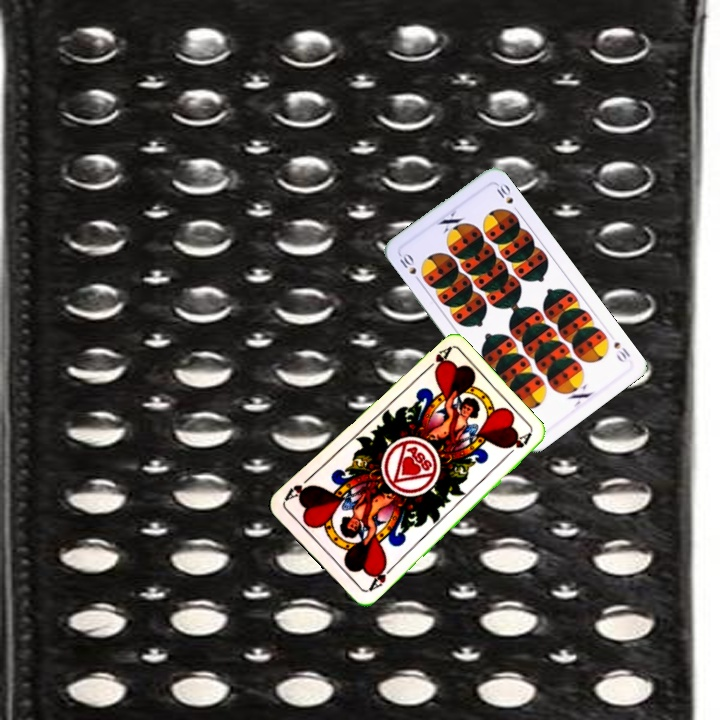HA: (363, 559, 397, 594), (419, 344, 453, 376)
S10: (395, 249, 424, 286), (610, 337, 633, 365)
